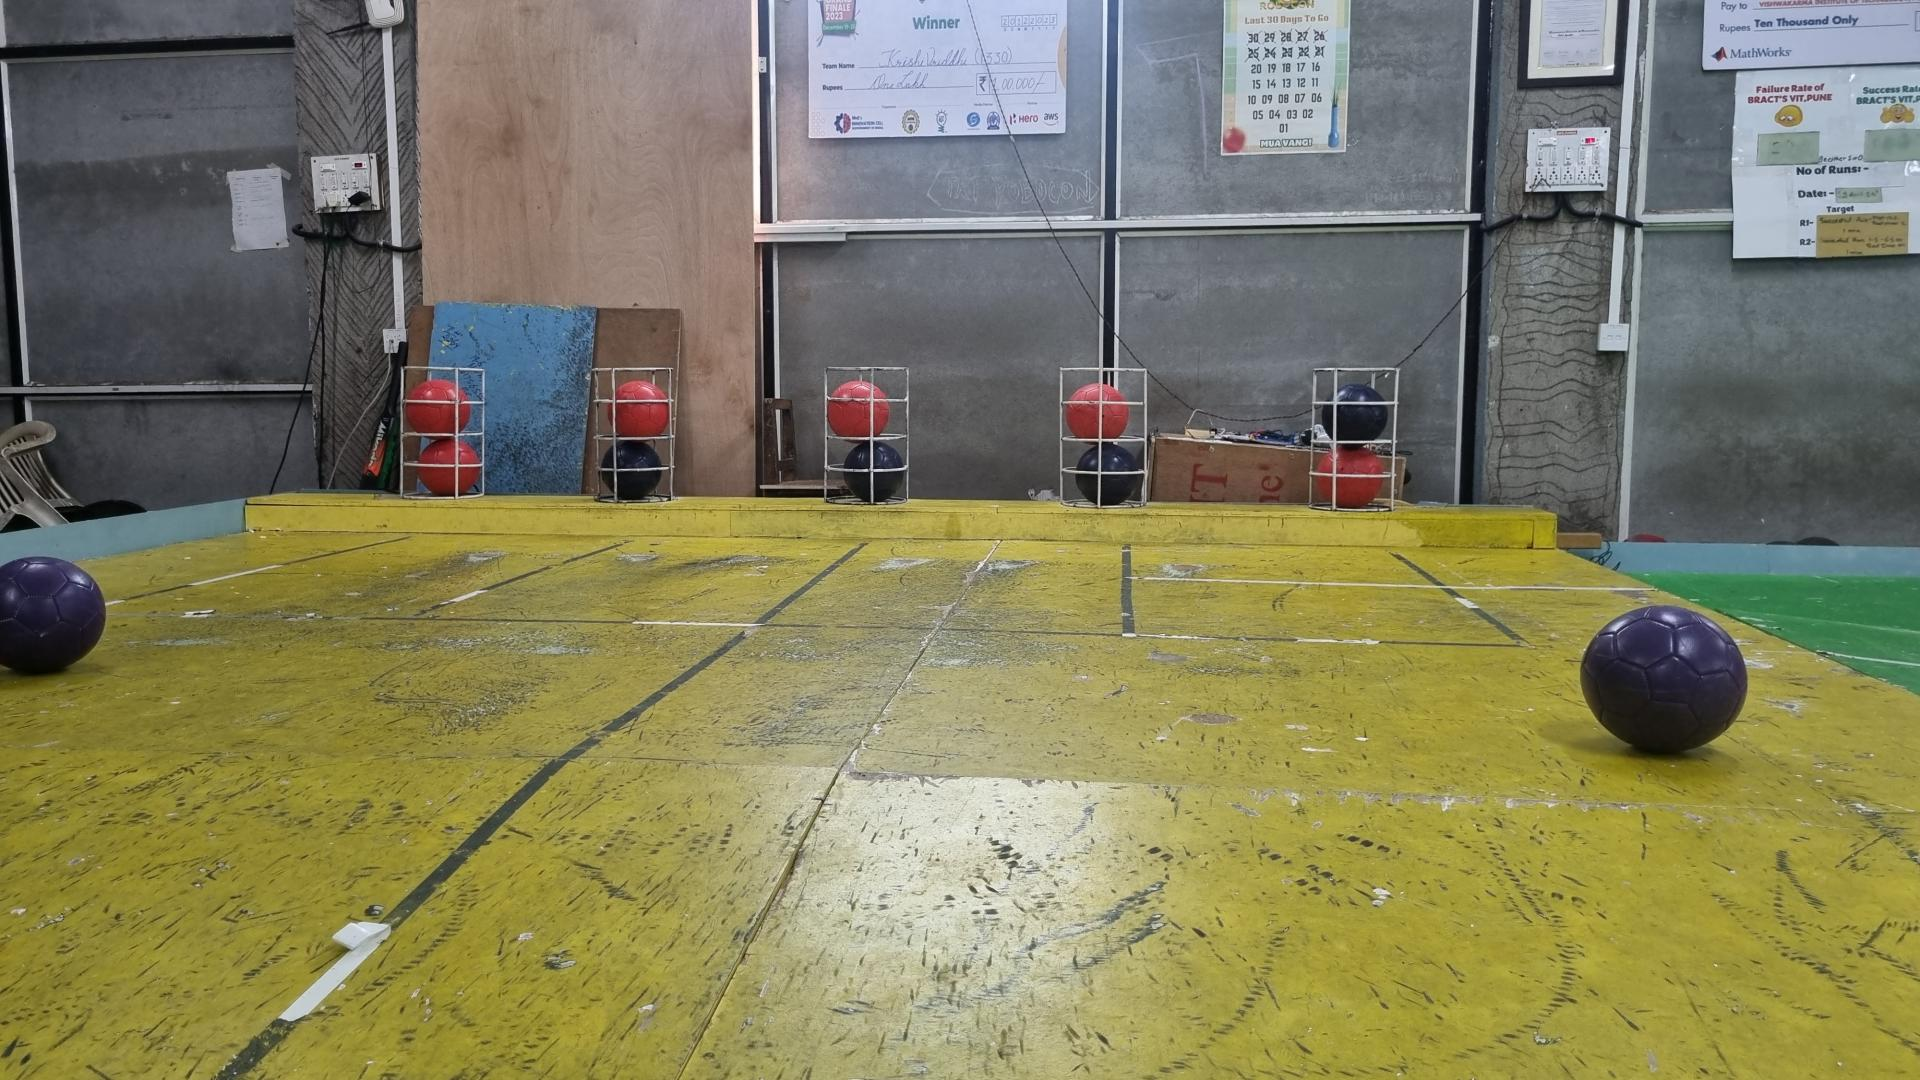dhoka: (1076, 442, 1139, 506), (1320, 382, 1387, 442), (600, 442, 663, 502), (844, 442, 903, 502)
laale: (1316, 446, 1383, 509), (405, 378, 472, 435), (825, 378, 889, 438), (417, 438, 480, 495), (1065, 382, 1129, 438), (612, 382, 671, 438)
